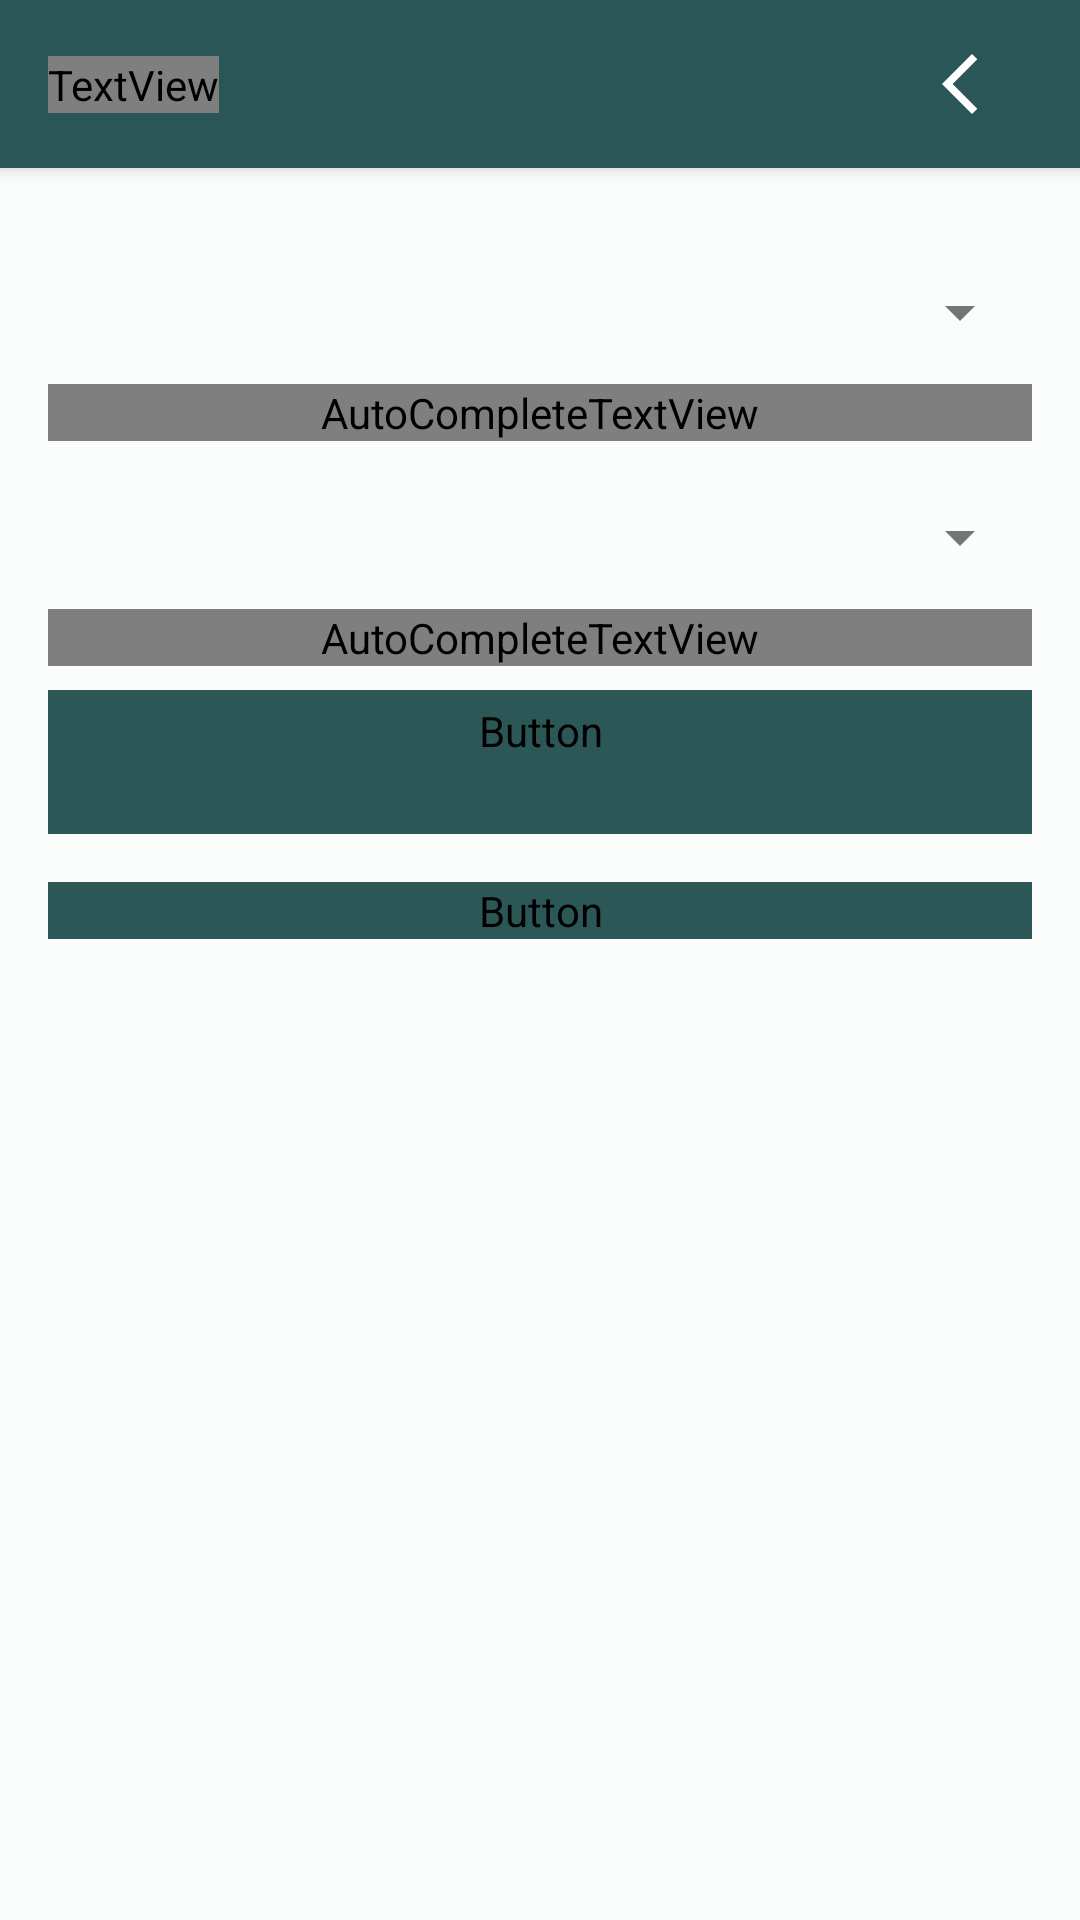

Point at icon controls on the screen. Image size 1080 x 1920, points as (x=x, y=y).
Back: (x=959, y=84)
